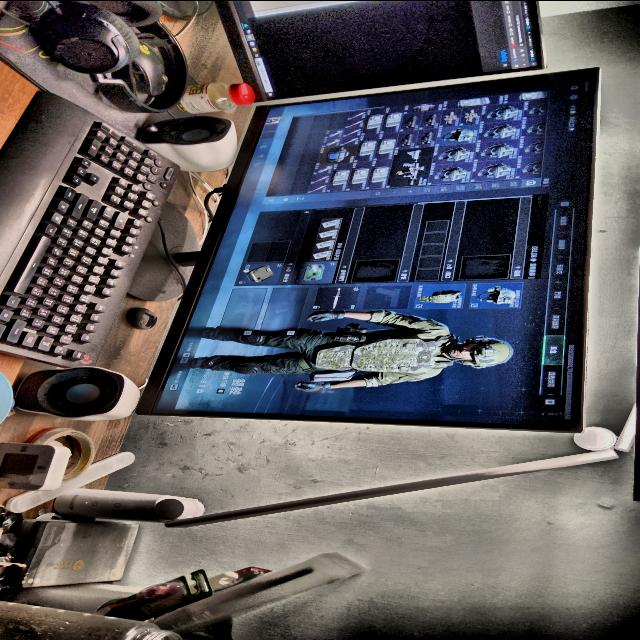Keyboard: (0, 92, 179, 368)
MOUSE: (114, 39, 168, 97)
Screen: (143, 67, 600, 432), (215, 0, 545, 100)
